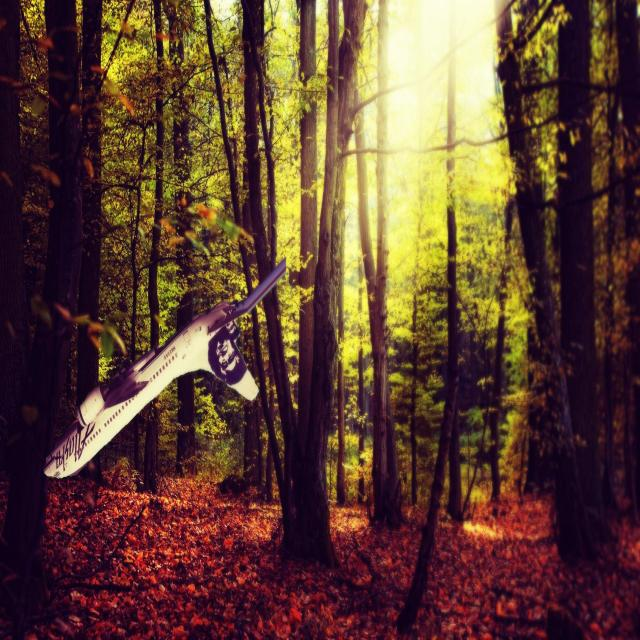airplane: (42, 256, 286, 480)
